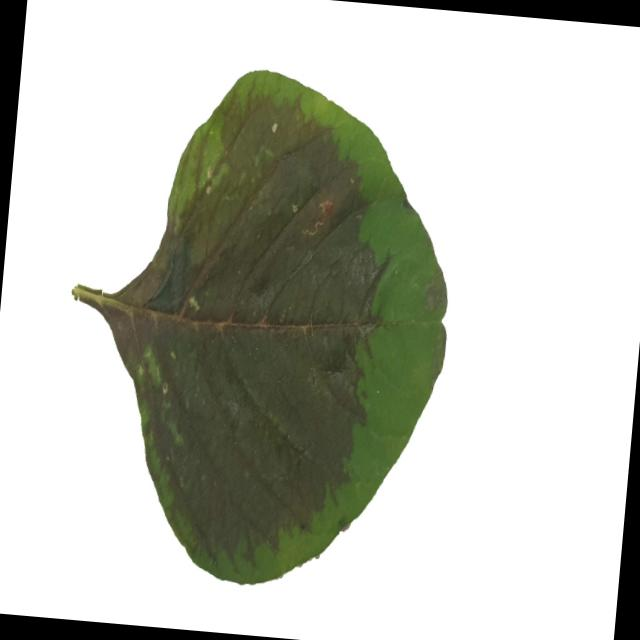Medicinal-Arive Dantu: (48, 53, 470, 602)
